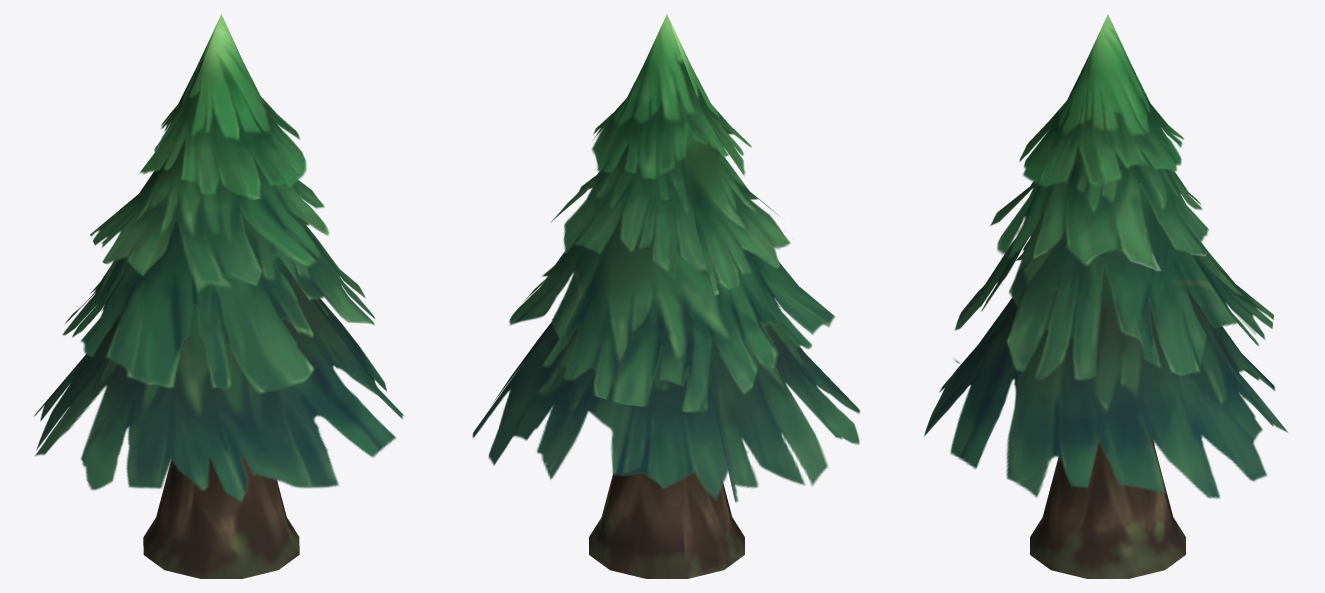
File: pinetree.glb
3 renders of one model, left to right at view 1: azimuth 30°, elevation 25°; view 2: azimuth 150°, elevation 25°; view 3: azimuth 270°, elevation 25°, orthographic.
Visible parts, largest first — view 1: Pinetree; view 2: Pinetree; view 3: Pinetree.
Boxes of the visible parts, x1,y1,x2,y2 form: Pinetree: (34,14,403,578); Pinetree: (472,14,860,578); Pinetree: (924,14,1287,578).
Bounding box in the file's own units: 2.42 × 3.39 × 2.34.
1 material, 1 textured.
